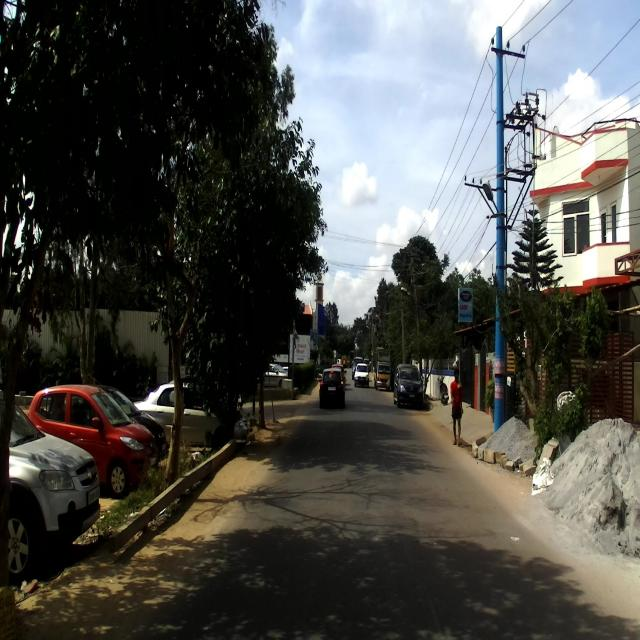car: (0, 383, 92, 589), (26, 382, 158, 494), (392, 362, 426, 410), (318, 366, 344, 410)
